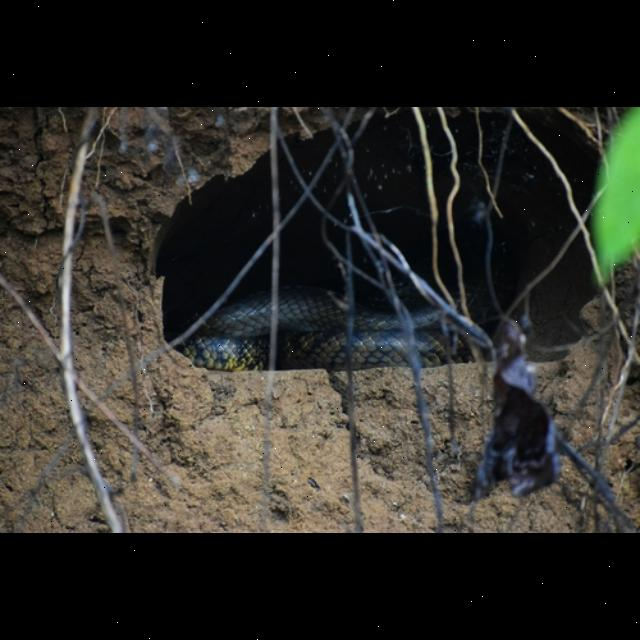snake: (168, 282, 534, 408)
